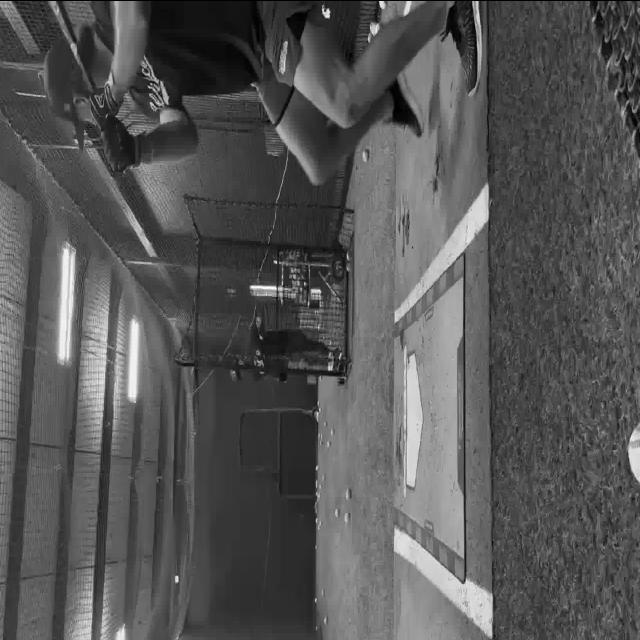base: (404, 353, 426, 487)
baseball: (628, 423, 640, 483), (370, 21, 380, 36), (379, 0, 387, 10), (362, 149, 368, 162), (345, 488, 351, 500), (344, 512, 350, 523), (346, 251, 351, 261), (323, 616, 328, 624), (335, 508, 339, 516), (326, 440, 330, 448), (330, 428, 334, 436), (346, 263, 350, 271), (322, 588, 324, 596), (314, 597, 317, 602), (324, 421, 326, 426)
baseball_glove: (100, 114, 140, 174), (88, 74, 124, 130)
bat: (44, 0, 96, 102)
shoe: (440, 1, 482, 97), (388, 72, 424, 138)
